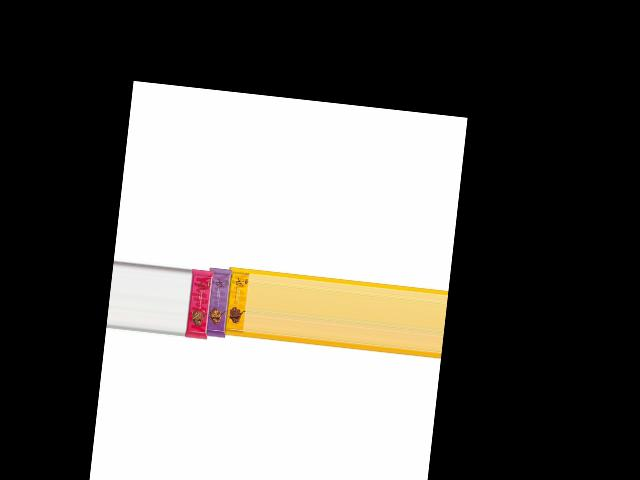chocolate: (183, 265, 214, 343)
